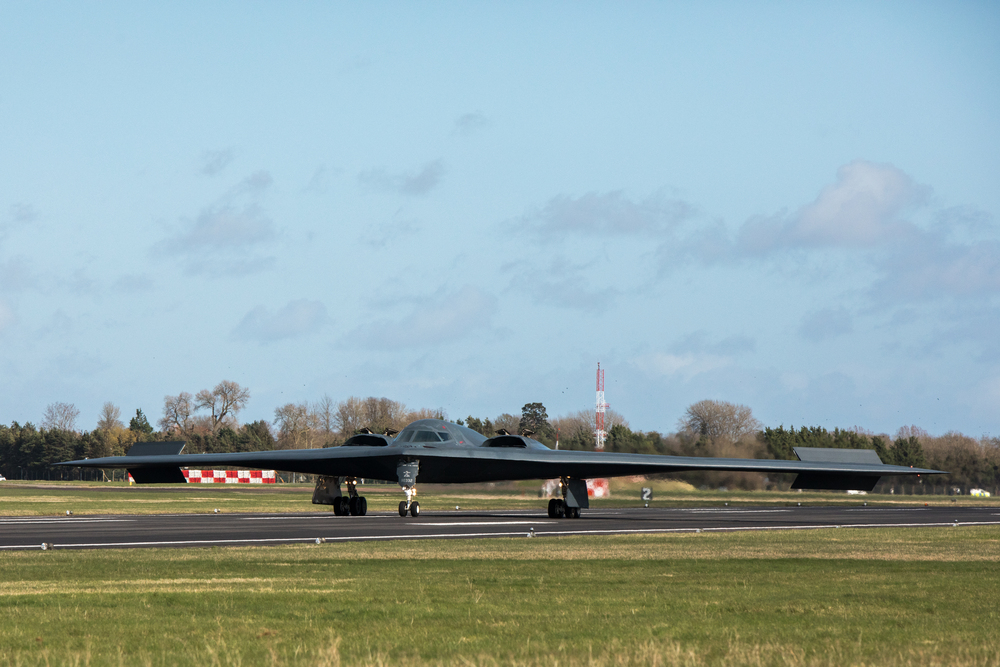B2: (50, 418, 952, 519)
